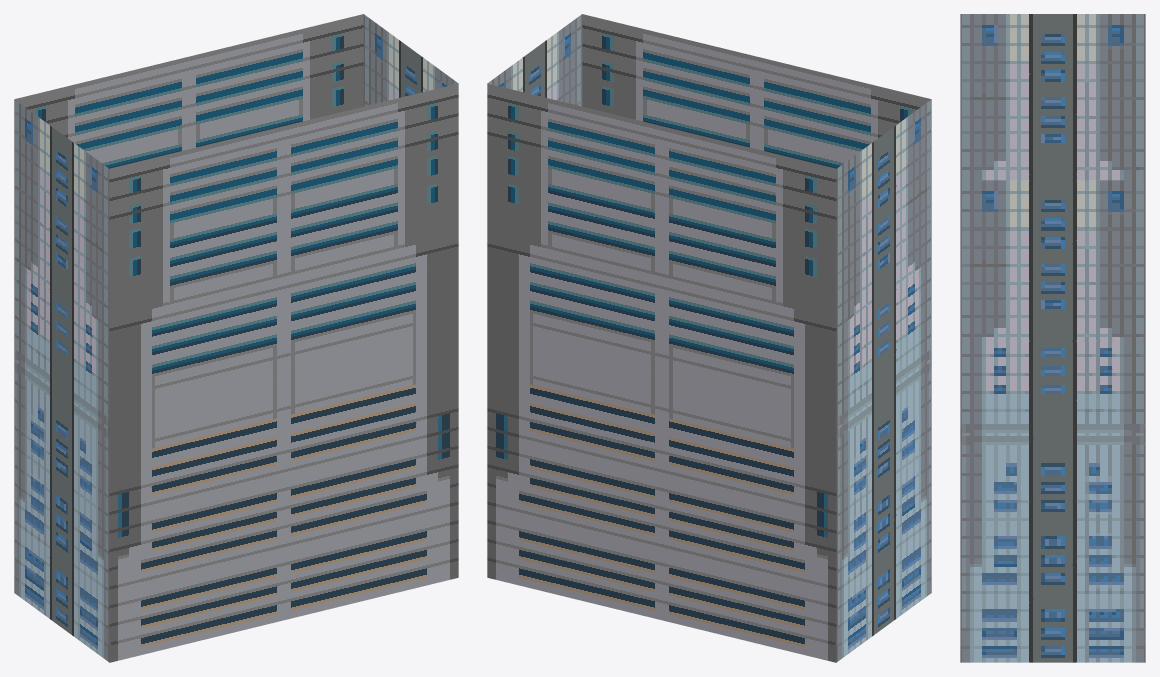
The picture shows the model from 3 angles, left to right: view 1: azimuth 30°, elevation 25°; view 2: azimuth 150°, elevation 25°; view 3: azimuth 270°, elevation 25°; orthographic projection. The views are drawn at different scales.
Parts seen in each view (by area): view 1: obj-127; view 2: obj-127; view 3: obj-127.
Part boxes in pixels (x1,y1,x2,y2): obj-127: [14, 14, 458, 662]; obj-127: [487, 14, 931, 662]; obj-127: [960, 14, 1145, 662].
Size of the model in its own units: 5.22 by 7.06 by 2.46.
1 material, 1 textured.
